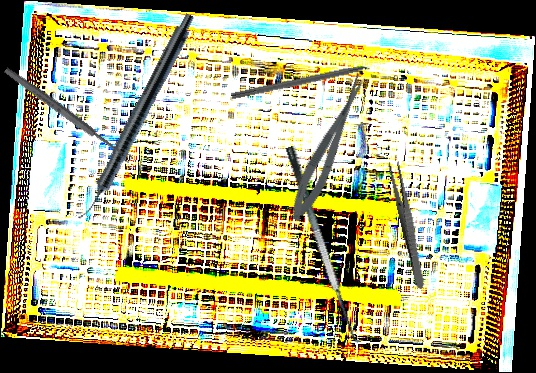Dressing Forceps: (386, 159, 429, 290)
Handpiece: (73, 9, 199, 226)
Hook Surgical: (230, 59, 387, 102)
Micro Scissor: (282, 71, 376, 225)
Spatula Surgical: (283, 140, 372, 347)
Surgical Spoon: (2, 65, 134, 165)
